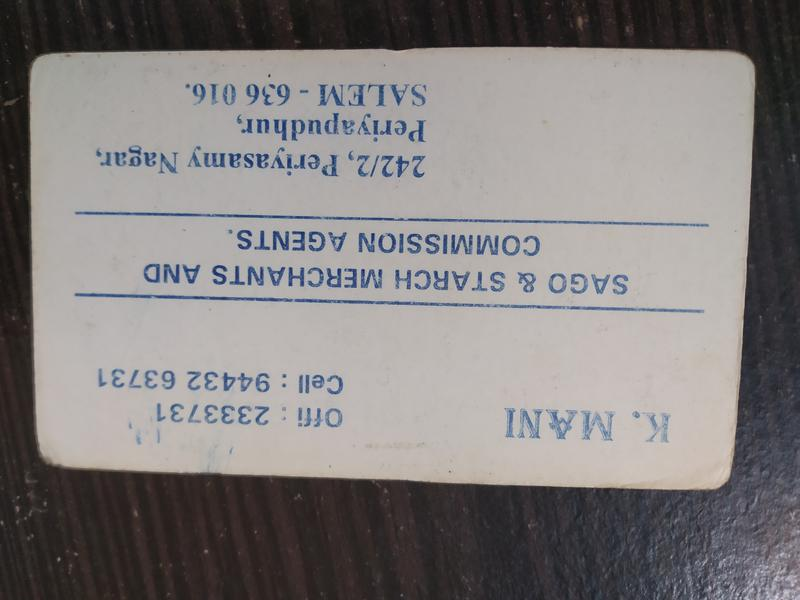card: (29, 46, 752, 491)
